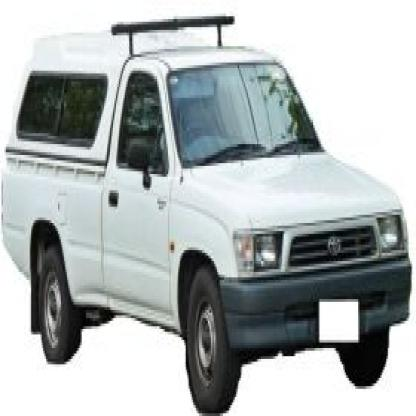light_vehicle: (6, 22, 413, 408)
